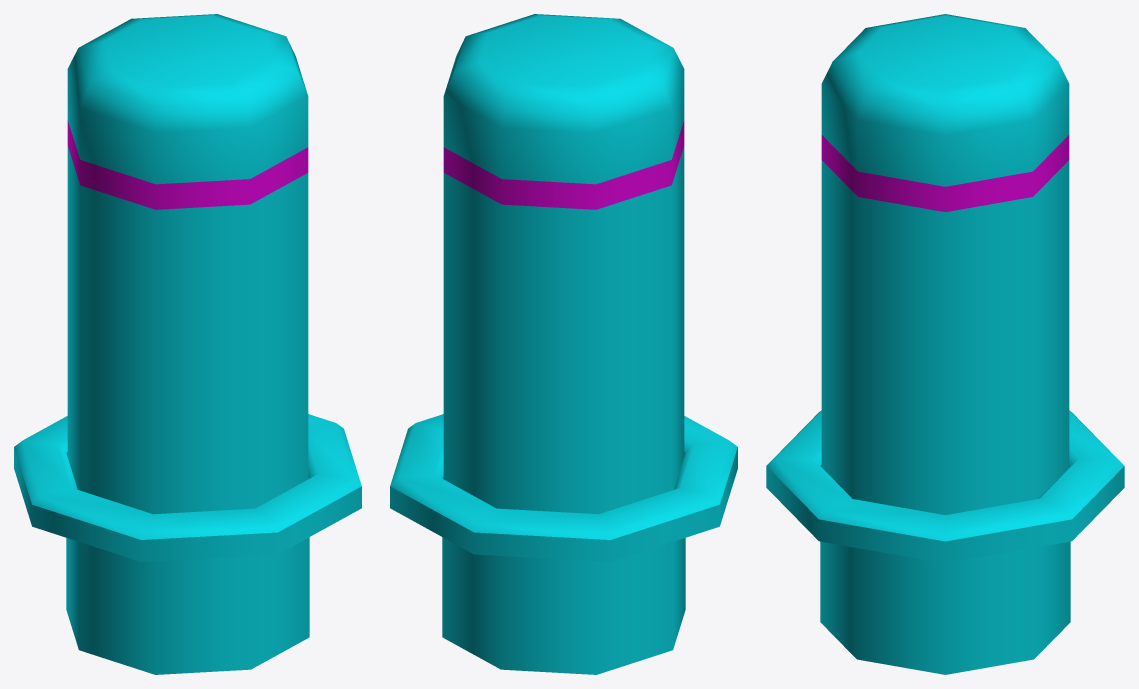
Rendered from Paletti_antitraffico.fbx.
3 views of the same model, side by side, from view 1: azimuth 30°, elevation 25°; view 2: azimuth 150°, elevation 25°; view 3: azimuth 270°, elevation 25° (orthographic).
Parts seen in each view (by area): view 1: paletti_antitraffico; view 2: paletti_antitraffico; view 3: paletti_antitraffico.
Part boxes in pixels (<box>): paletti_antitraffico: <box>14,14,361,674</box>; paletti_antitraffico: <box>390,14,737,674</box>; paletti_antitraffico: <box>766,14,1124,674</box>.
Size of the model in its own units: 41.93 by 73.55 by 41.93.
